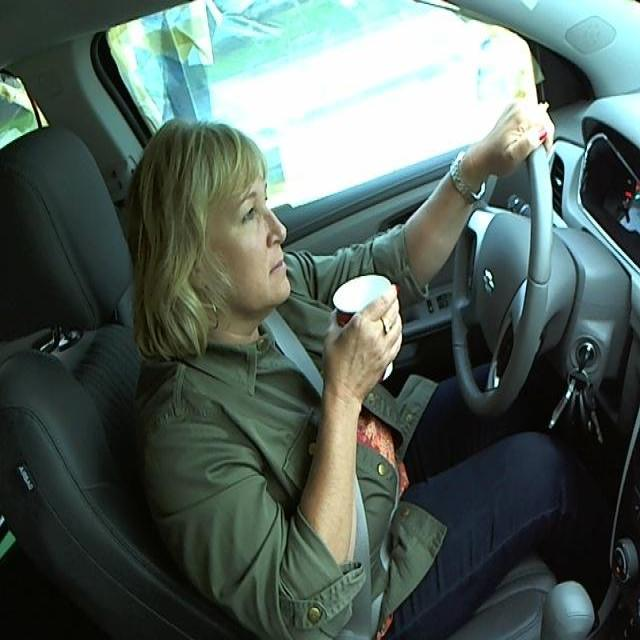Seatbelt: (331, 273, 401, 383)
